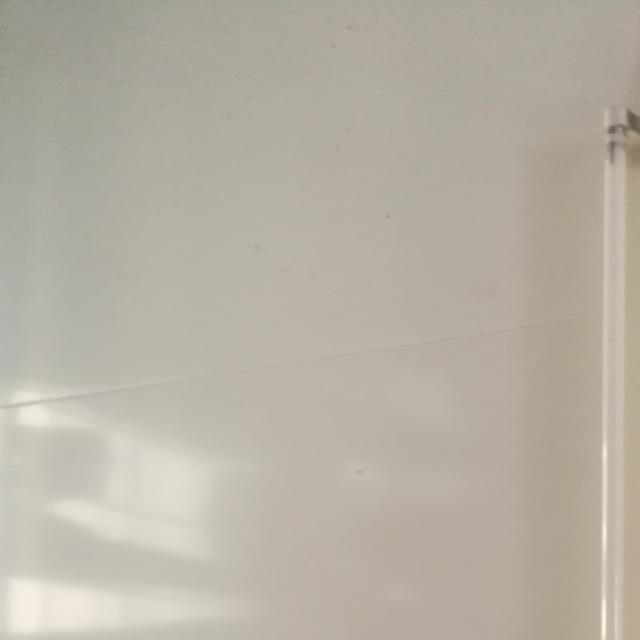fluorescent tube: (491, 84, 640, 640)
